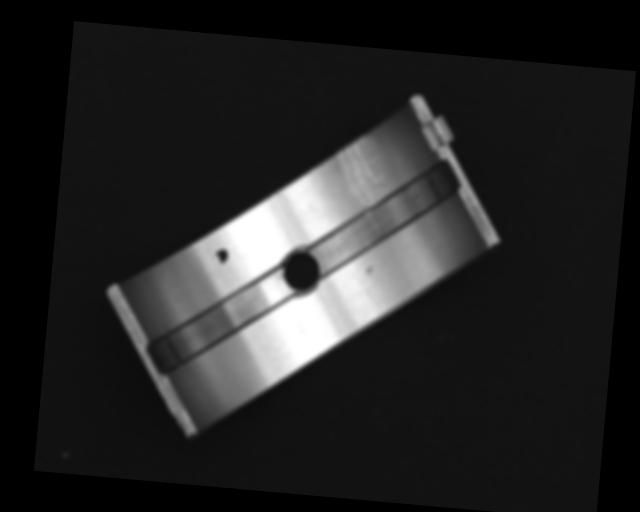blot: (214, 247, 229, 265)
bruise: (364, 265, 375, 275)
gap: (307, 148, 461, 282), (144, 259, 295, 385)
hole: (280, 248, 322, 296)
scratch: (332, 133, 392, 214)
